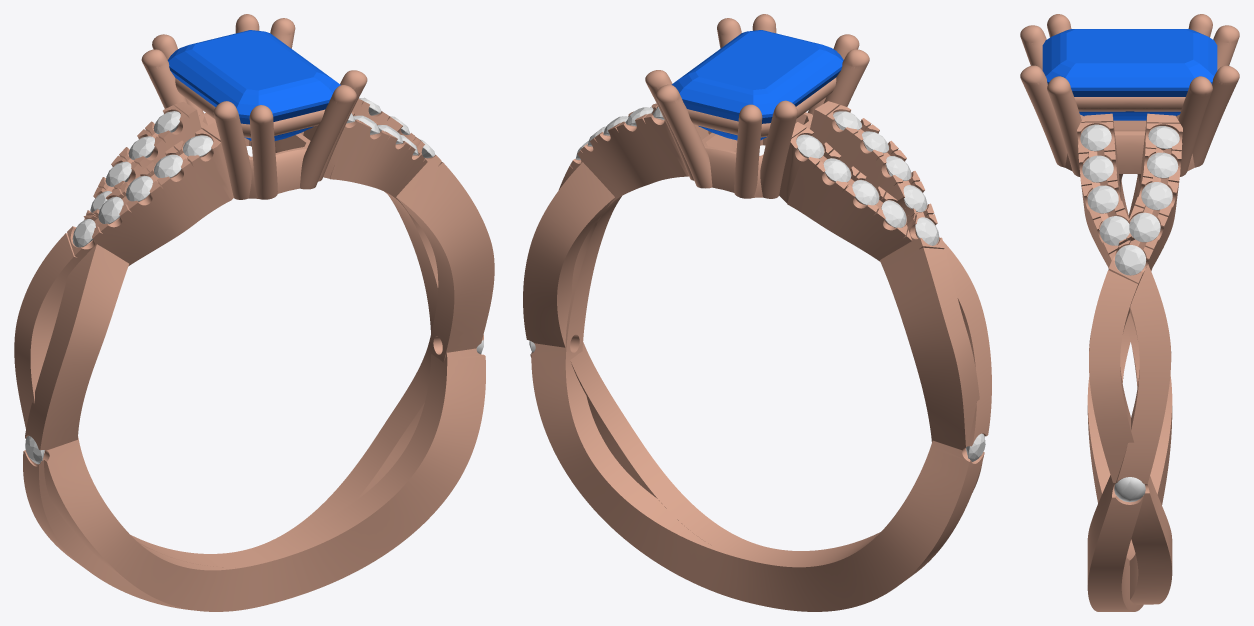
Rendered from bluesapphire-emerald-rosegold-8prong-twist-sidestones.glb.
3 views of the same model, side by side, from view 1: azimuth 30°, elevation 25°; view 2: azimuth 150°, elevation 25°; view 3: azimuth 270°, elevation 25° (orthographic).
Parts seen in each view (by area): view 1: metal.001, stone; view 2: metal.001, stone; view 3: metal.001, stone, side.015, side.016, side.012, side.017, side.011, side.013, side.014, side.018, side.010, side.019.
Boxes of the visible parts, left/top/right/bottom form: metal.001: left=14, top=14, right=494, bottom=611; stone: left=167, top=30, right=340, bottom=140; metal.001: left=523, top=14, right=991, bottom=611; stone: left=671, top=30, right=843, bottom=140; metal.001: left=1020, top=14, right=1239, bottom=611; stone: left=1042, top=29, right=1217, bottom=120; side.015: left=1115, top=245, right=1146, bottom=275; side.016: left=1129, top=212, right=1160, bottom=242; side.012: left=1087, top=185, right=1118, bottom=213; side.017: left=1141, top=182, right=1172, bottom=210; side.011: left=1099, top=216, right=1129, bottom=245; side.013: left=1082, top=155, right=1113, bottom=182; side.014: left=1080, top=124, right=1111, bottom=151; side.018: left=1147, top=152, right=1178, bottom=178; side.010: left=1114, top=477, right=1145, bottom=502; side.019: left=1148, top=126, right=1179, bottom=148.
Size of the model in its own units: 19.97 by 22.74 by 8.4.
